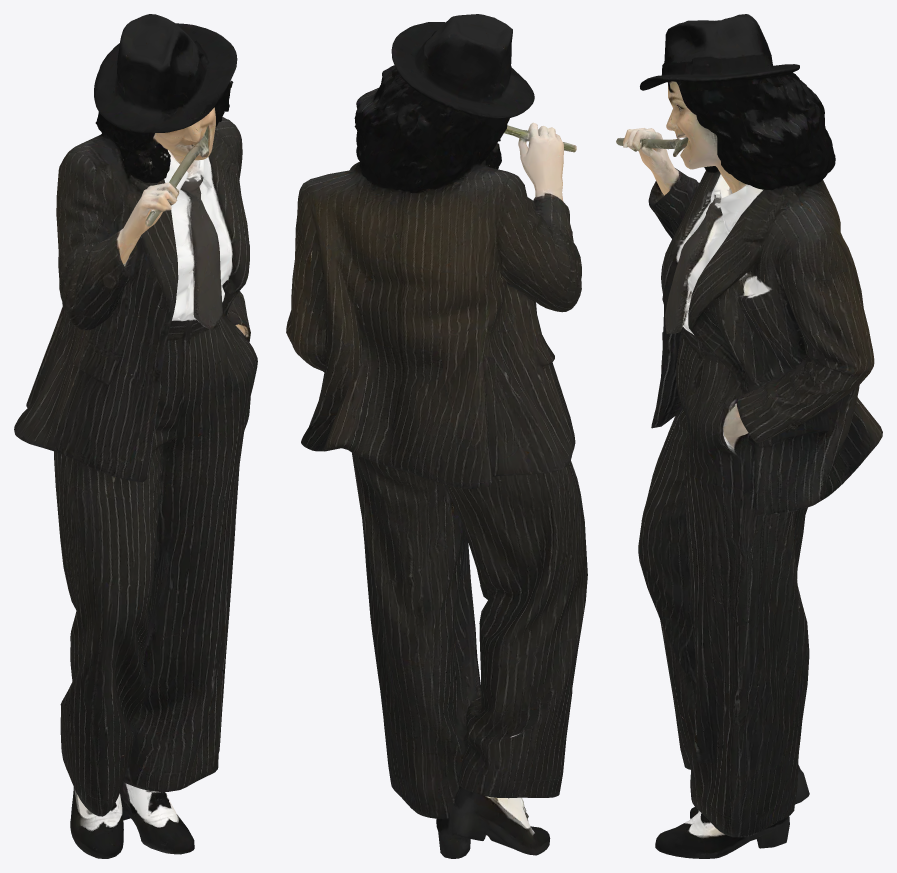
File: carole.glb
3 views of the same model, side by side, from view 1: azimuth 30°, elevation 25°; view 2: azimuth 150°, elevation 25°; view 3: azimuth 270°, elevation 25° (orthographic). The views are drawn at different scales.
Size of the model in its own units: 0.588 by 1.9 by 0.5481.
1 material, 1 textured.
